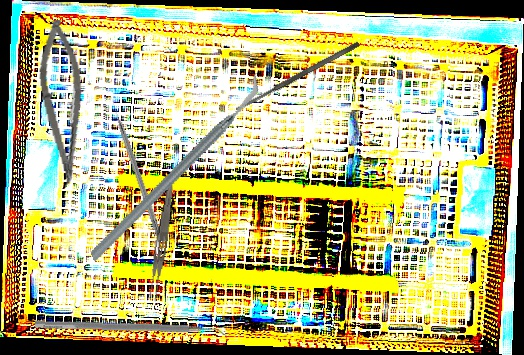Chopper: (51, 72, 300, 263)
Dressing Forceps: (145, 178, 177, 303)
Hook Surgical: (107, 95, 166, 243)
Micro Scissor: (30, 17, 97, 188)
Spatula Surgical: (234, 40, 361, 113), (34, 320, 228, 341)
